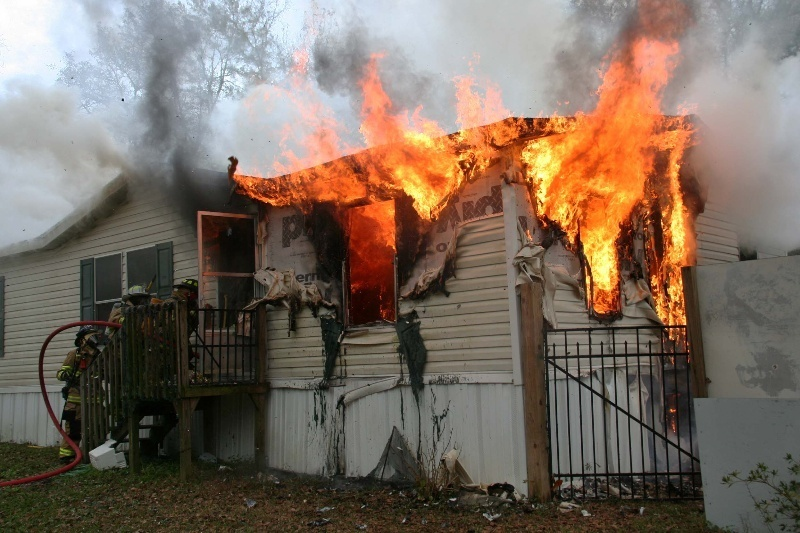fire: (229, 29, 720, 313)
